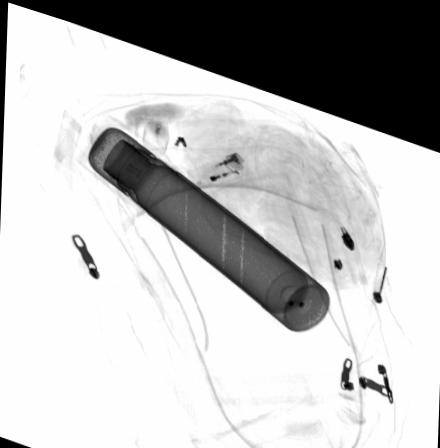Lighter: (186, 136, 247, 171)
